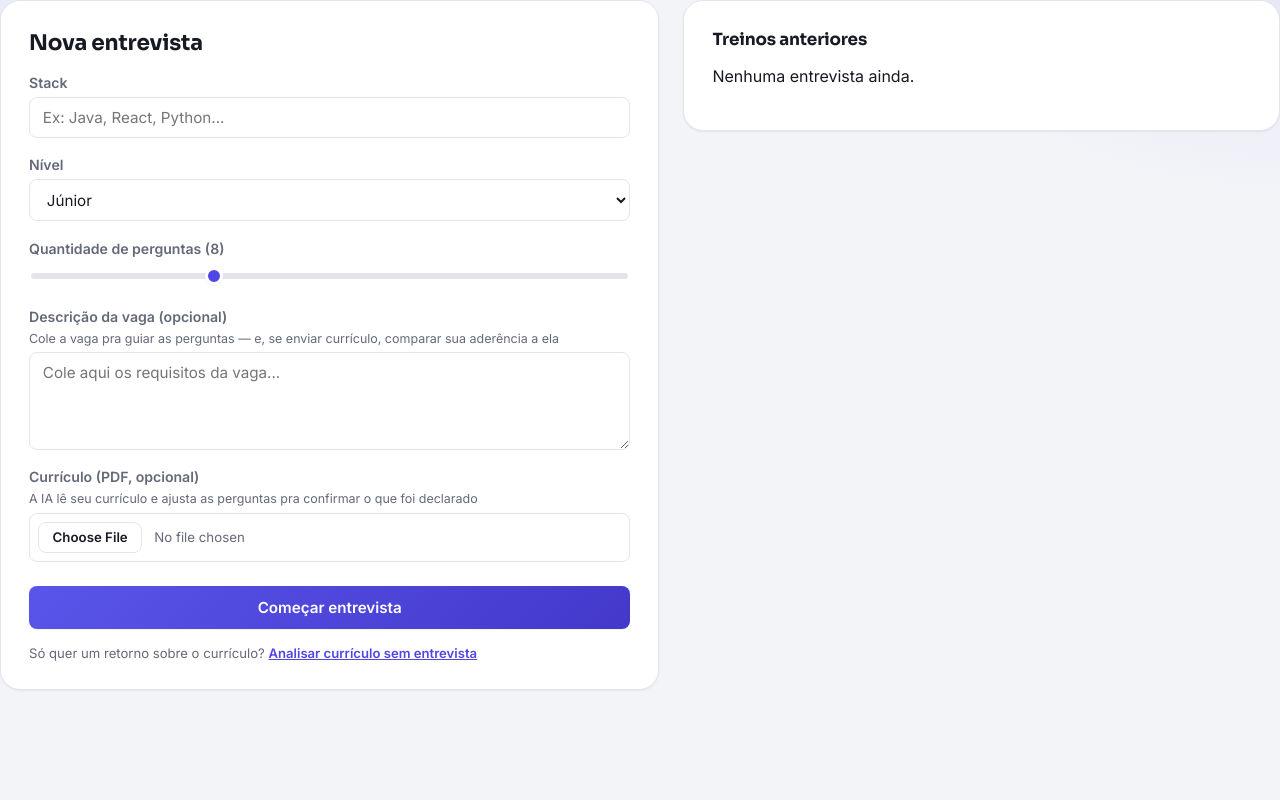
Test: HomePage › erro ao iniciar aparece na tela e não navega
The image size is (1280, 800).
Check: the text "Nenhuma entrevista ainda." is shown, box [712,66,914,86]
In the field labelled "Stack": (330, 117) [29,97,630,138], type "Rust"
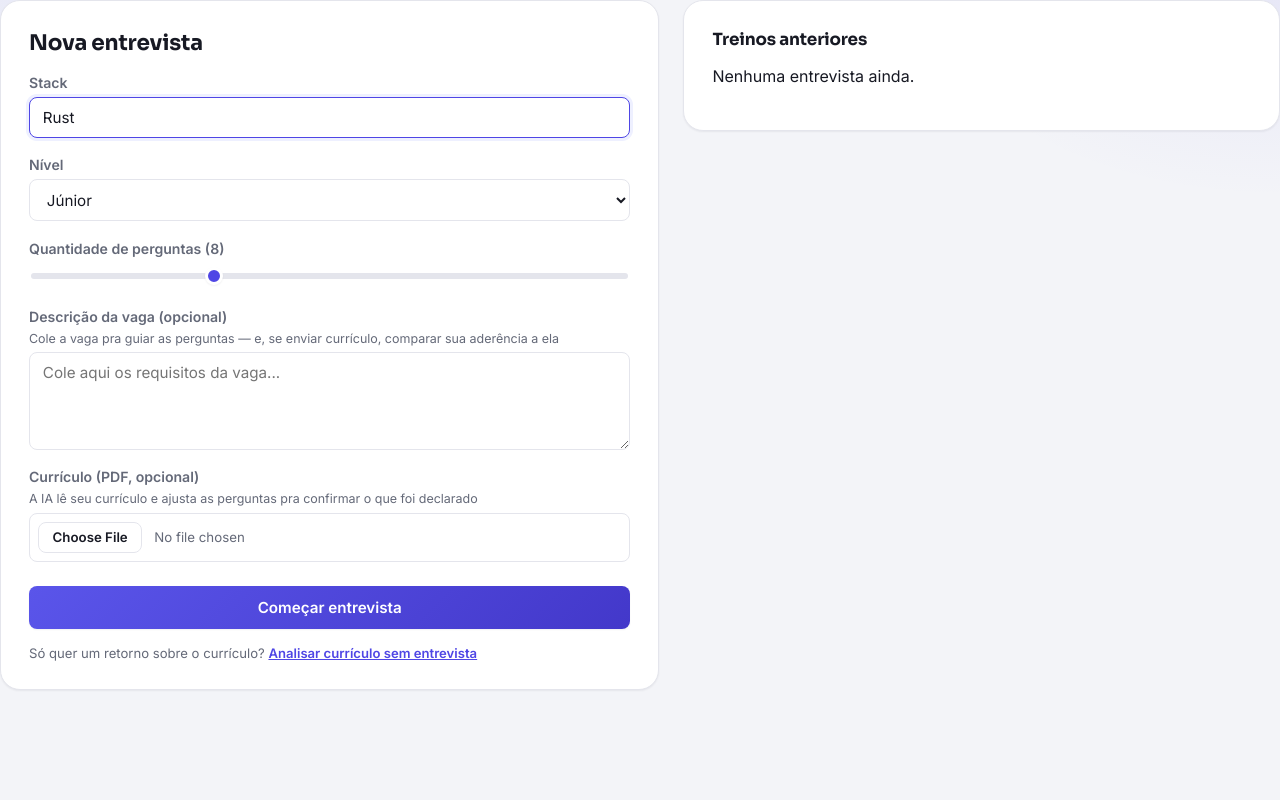
Click the button "Começar entrevista": (330, 607) [29,586,630,628]
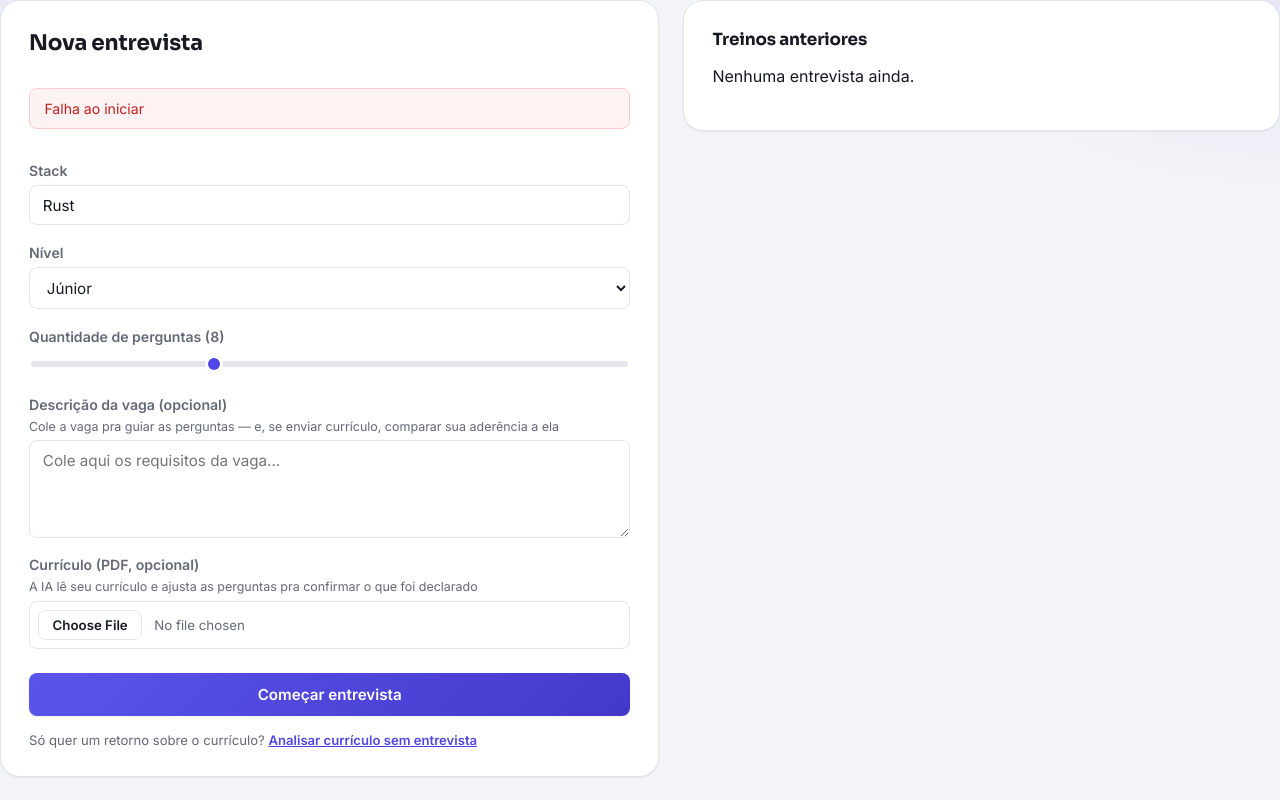
Check: the text "Falha ao iniciar" is shown, box [29,88,630,129]
